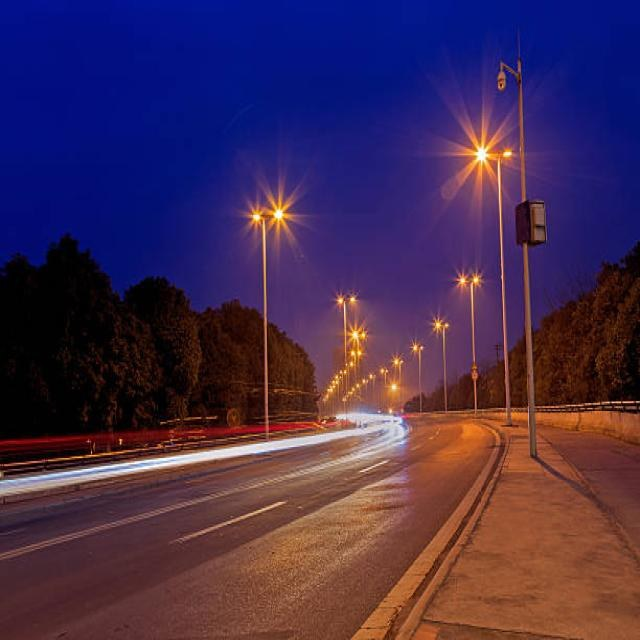acesa: (452, 114, 495, 198), (264, 194, 296, 239)
